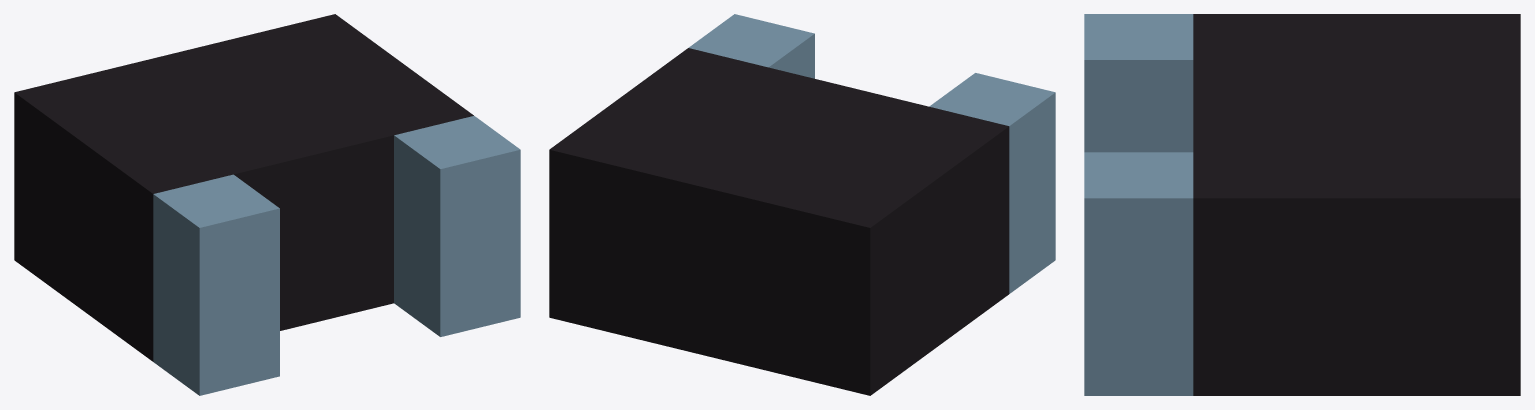
File: binoculars.glb
3 renders of one model, left to right at view 1: azimuth 30°, elevation 25°; view 2: azimuth 150°, elevation 25°; view 3: azimuth 270°, elevation 25°, orthographic. The views are drawn at different scales.
Visible parts, largest first — view 1: binoculars; view 2: binoculars; view 3: binoculars.
Part boxes in pixels (bbox=[...]): binoculars: bbox=[14, 14, 520, 395]; binoculars: bbox=[549, 14, 1055, 395]; binoculars: bbox=[1084, 14, 1520, 395].
Bounding box in the file's own units: 0.2 × 0.1 × 0.2.
1 material, 1 textured.
